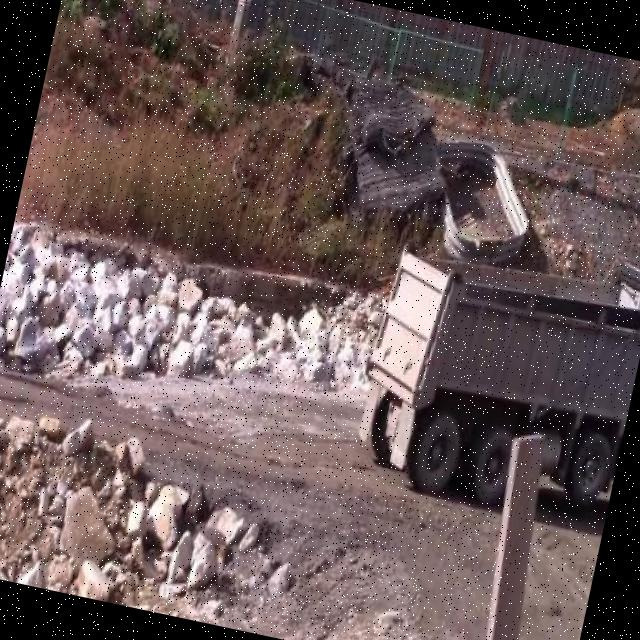Dump Truck: (342, 204, 640, 529)
